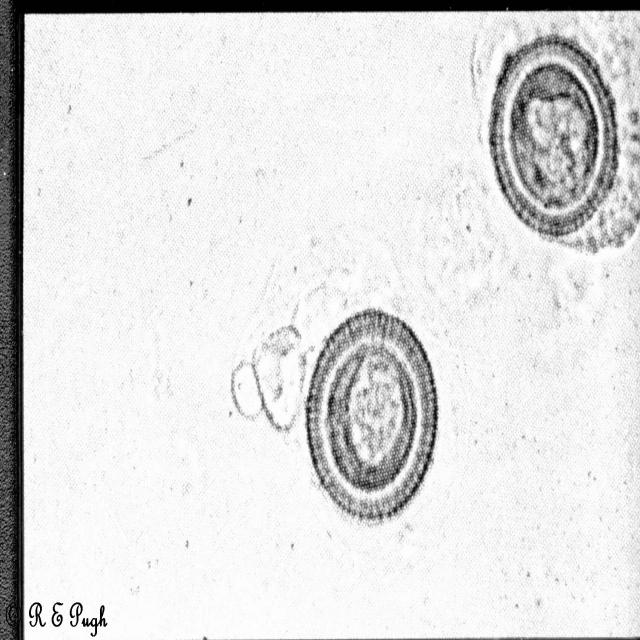Taenia Sp: (294, 286, 460, 534), (477, 29, 622, 263)
